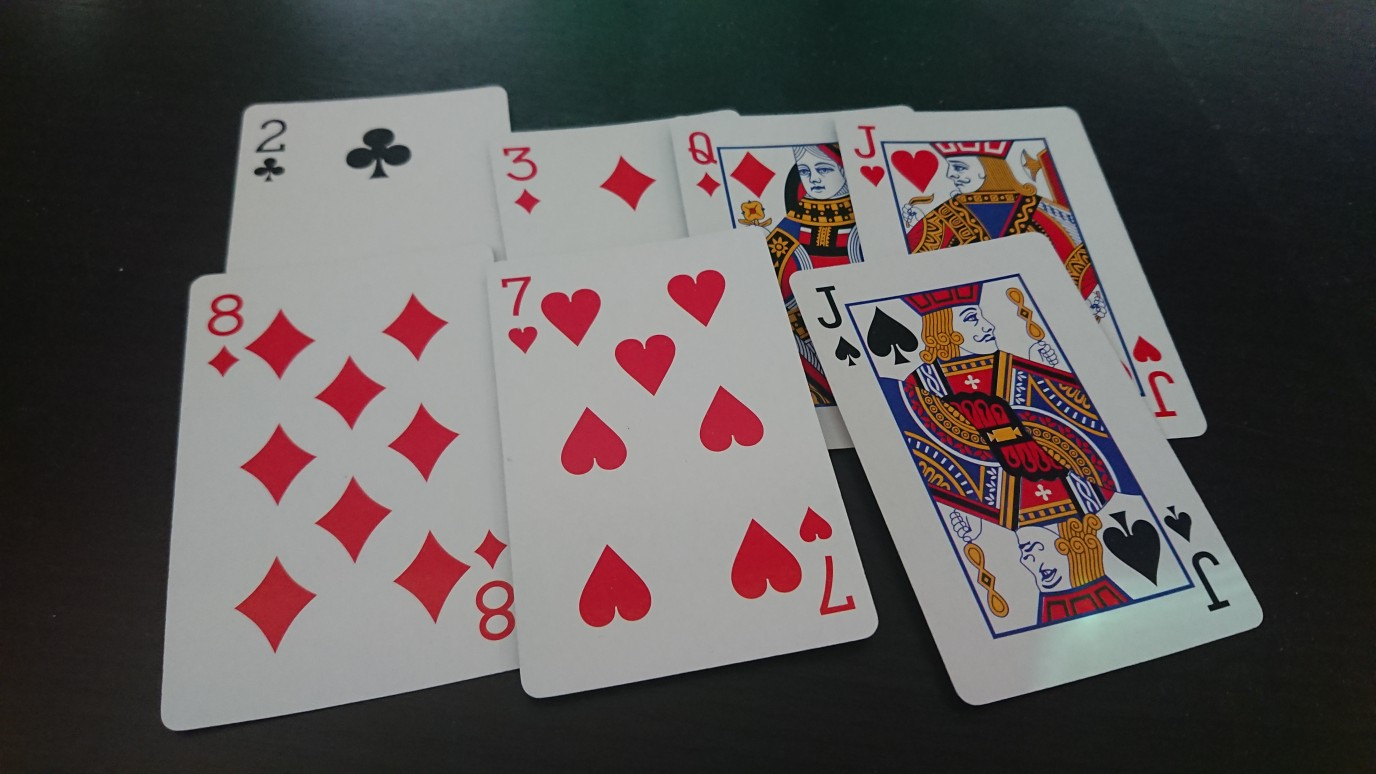2C: (249, 114, 290, 186)
3D: (501, 142, 545, 218)
7H: (498, 274, 540, 360)
8D: (204, 289, 247, 381)
JH: (849, 121, 889, 190)
JS: (812, 283, 865, 370)
QD: (684, 128, 724, 199)
